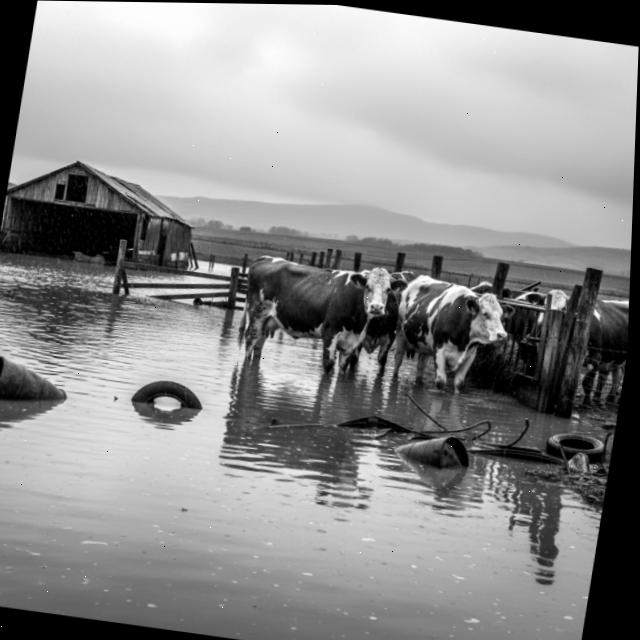cow: (220, 238, 413, 399), (383, 258, 516, 408), (519, 283, 630, 421), (455, 269, 564, 384)
